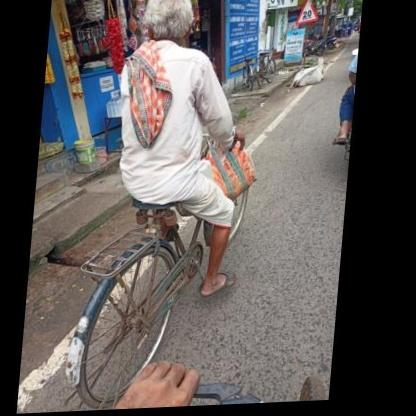Bicycle: (37, 121, 271, 408)
